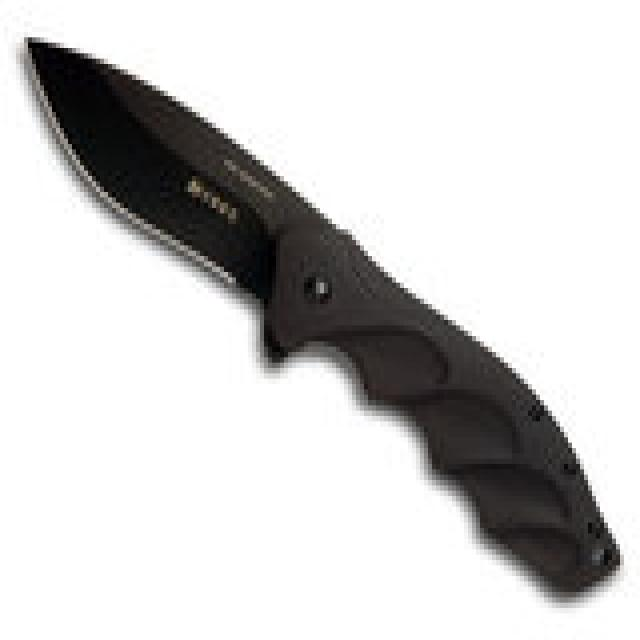Knife: (20, 19, 620, 610)
